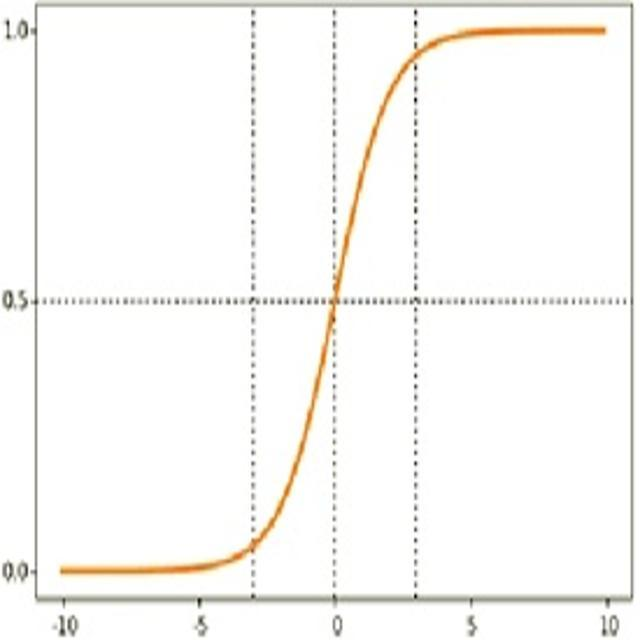axis: (27, 2, 45, 612), (25, 593, 640, 608)
line: (59, 26, 608, 576)
